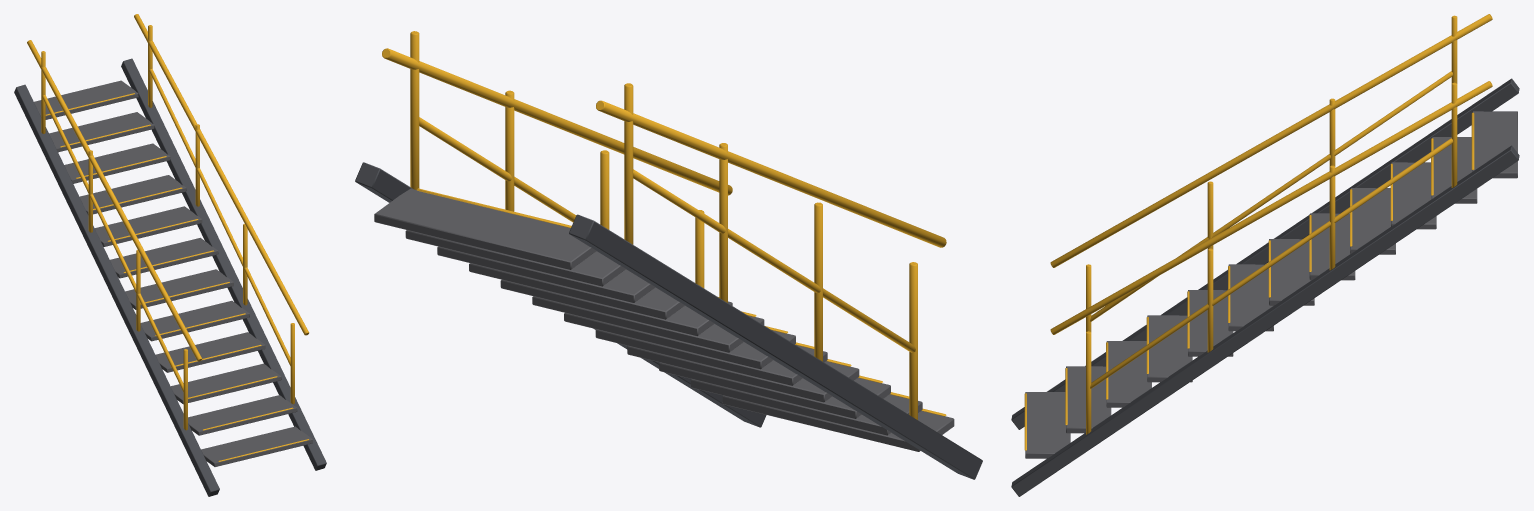
The model's file is Stairs.glb.
3 renders of one model, left to right at view 1: azimuth 30°, elevation 25°; view 2: azimuth 150°, elevation 25°; view 3: azimuth 270°, elevation 25°, orthographic. The views are drawn at different scales.
Visible parts, largest first — view 1: Stairs; view 2: Stairs; view 3: Stairs.
Boxes of the visible parts, left/top/right/bottom form: Stairs: left=14, top=14, right=326, bottom=496; Stairs: left=355, top=31, right=982, bottom=479; Stairs: left=1011, top=14, right=1519, bottom=496.
Bounding box in the file's own units: 1.42 × 3.74 × 4.17.
